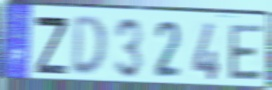2: (152, 19, 182, 80)
3: (113, 16, 145, 80)
4: (190, 19, 222, 83)
D: (70, 14, 109, 80)
E: (228, 23, 265, 82)
Z: (34, 14, 70, 77)
